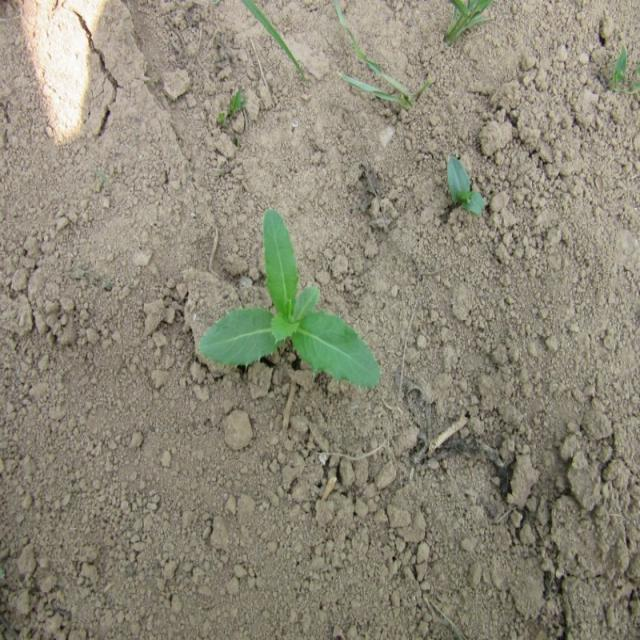cs: (191, 201, 384, 395)
